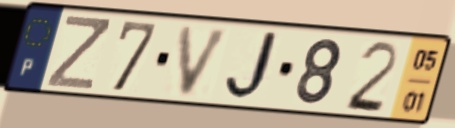2: (343, 39, 401, 115)
7: (111, 18, 159, 93)
8: (294, 36, 342, 107)
J: (222, 29, 287, 104)
V: (177, 23, 235, 100)
Z: (43, 13, 113, 92)
